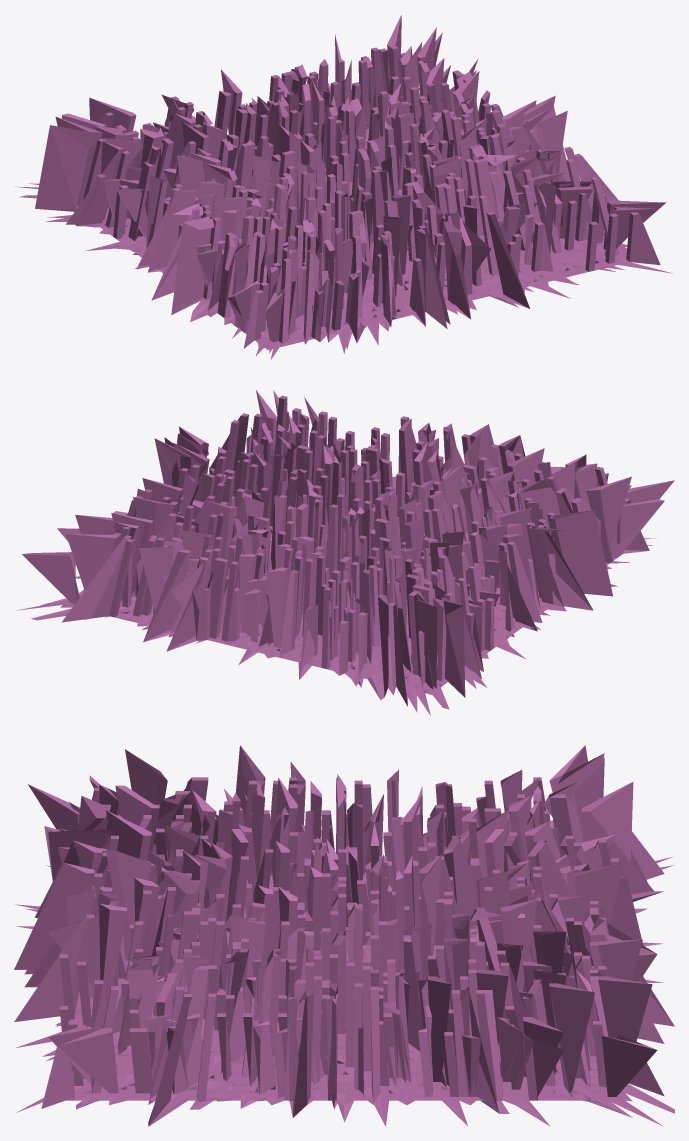
3 renders of one model, top to bottom at view 1: azimuth 30°, elevation 25°; view 2: azimuth 150°, elevation 25°; view 3: azimuth 270°, elevation 25°, orthographic. The views are drawn at different scales.
Visible parts, largest first — view 1: Plane; view 2: Plane; view 3: Plane.
Boxes of the visible parts, box(x1,y1,x2,y2) form: Plane: box(15, 15, 672, 359); Plane: box(16, 390, 674, 715); Plane: box(14, 745, 674, 1126).
Size of the model in its own units: 323 by 60.56 by 323.
